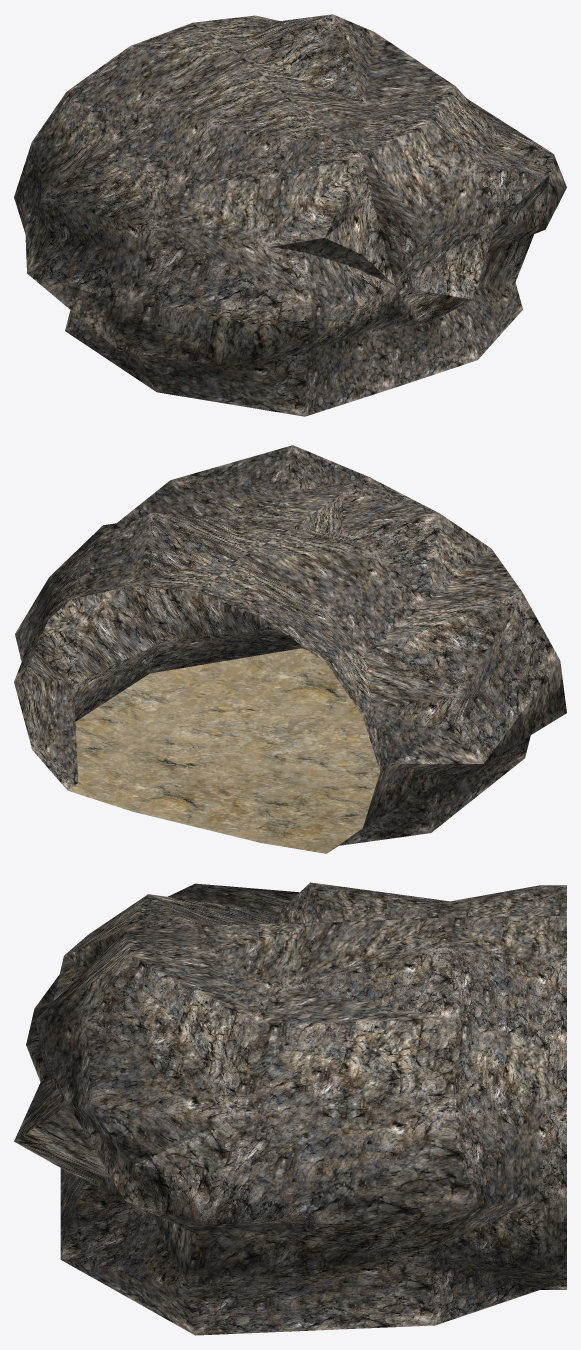
File: pir_m_are_cav_deadend150.fbx
The picture shows the model from 3 angles, top to bottom: view 1: azimuth 30°, elevation 25°; view 2: azimuth 150°, elevation 25°; view 3: azimuth 270°, elevation 25°; orthographic projection. The views are drawn at different scales.
Parts seen in each view (by area): view 1: standardDeadEnd_wall; view 2: standardDeadEnd_wall, standardDeadEnd_floor; view 3: standardDeadEnd_wall.
Part boxes in pixels (x1,y1,x2,y2): standardDeadEnd_wall: (14, 14, 566, 416); standardDeadEnd_wall: (14, 445, 566, 852); standardDeadEnd_floor: (68, 648, 380, 853); standardDeadEnd_wall: (14, 882, 566, 1335).
Size of the model in its own units: 12813 by 6765 by 10234.
Materials: 2 (2 with a texture image).
